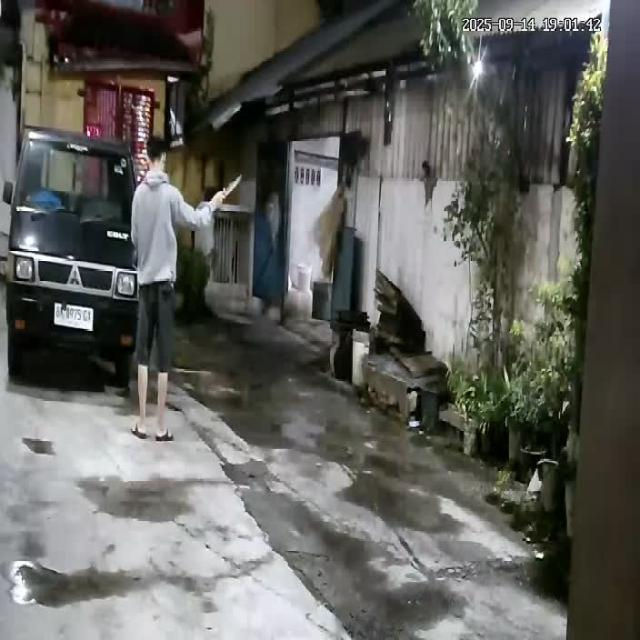senjata_tajam: (222, 172, 242, 200)
